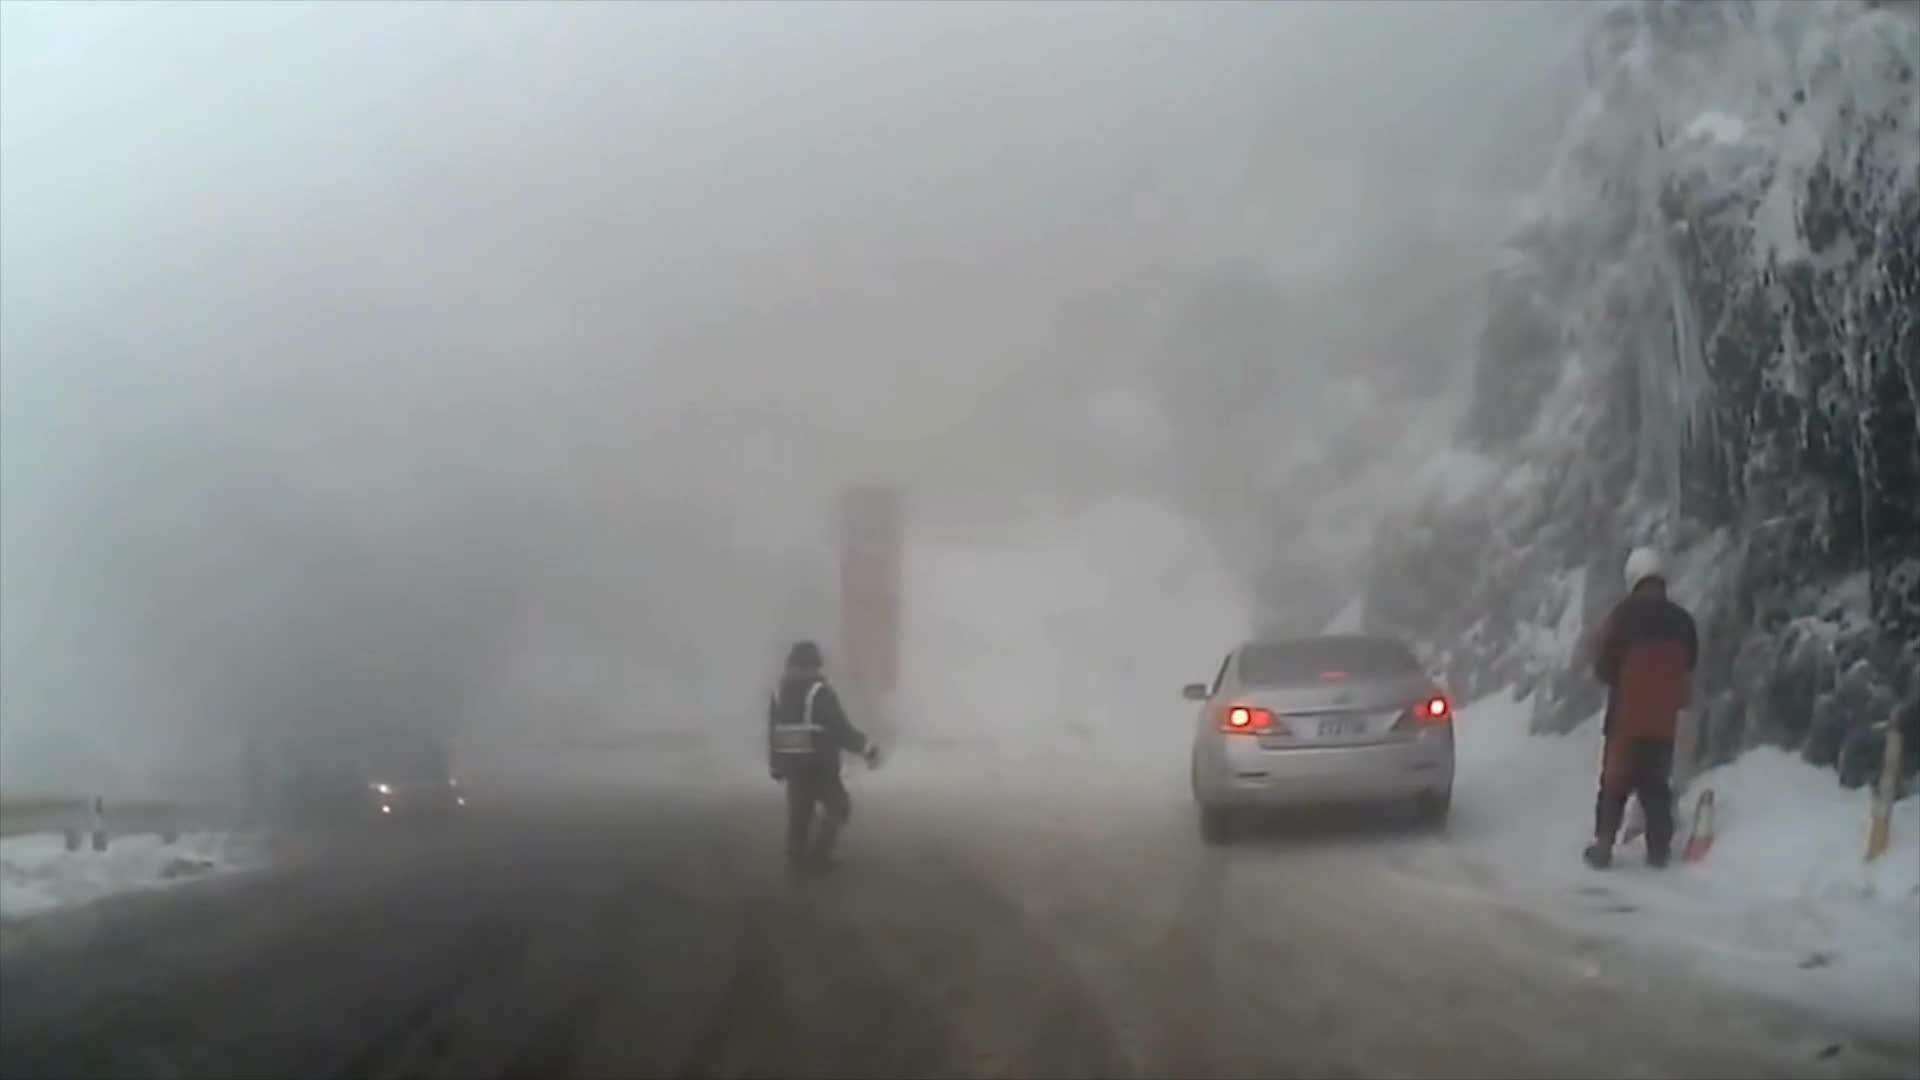pedestrian: (1587, 544, 1701, 876), (769, 644, 885, 876)
vehicle: (1179, 631, 1455, 846)
